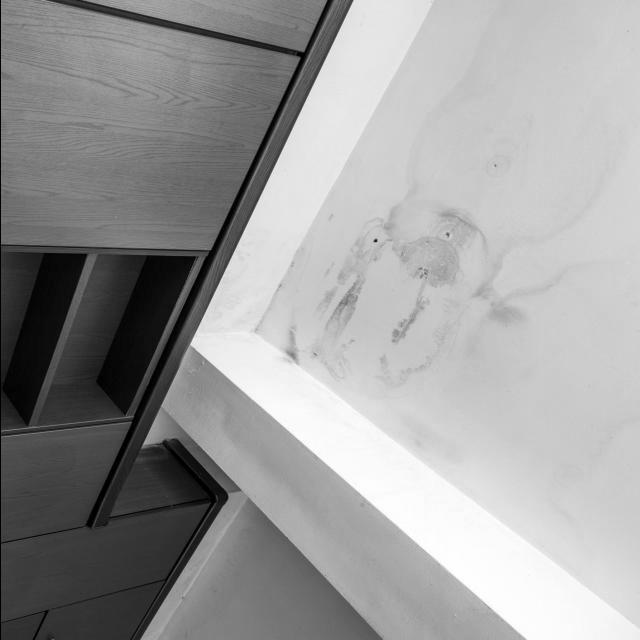pin holes: (362, 230, 383, 253), (489, 152, 506, 174), (412, 263, 431, 280), (440, 226, 455, 242)
stain marks: (316, 194, 541, 411), (210, 232, 308, 365), (387, 209, 480, 285), (328, 275, 364, 340), (393, 284, 425, 342), (489, 276, 524, 324), (279, 317, 302, 362)
